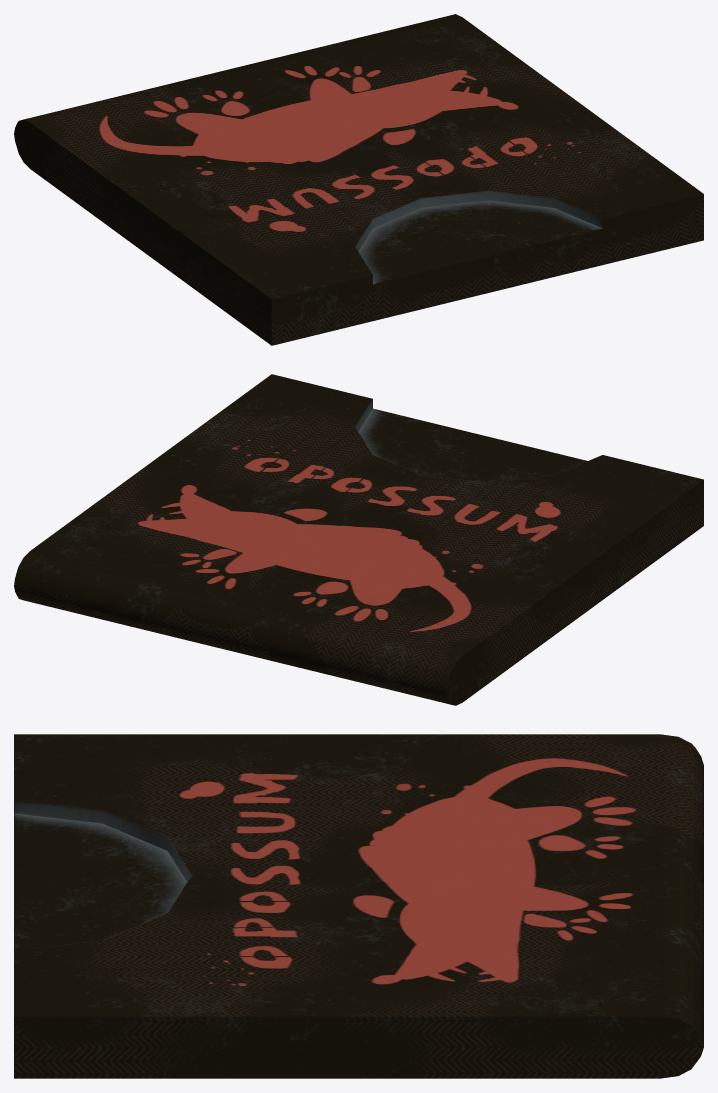
The model's file is Folded_Band Shirt_Textured.fbx.
The picture shows the model from 3 angles, top to bottom: view 1: azimuth 30°, elevation 25°; view 2: azimuth 150°, elevation 25°; view 3: azimuth 270°, elevation 25°; orthographic projection. The views are drawn at different scales.
Parts seen in each view (by area): view 1: ft_01; view 2: ft_01; view 3: ft_01.
Part boxes in pixels (x1,y1,x2,y2): ft_01: [14, 14, 703, 345]; ft_01: [14, 374, 703, 705]; ft_01: [14, 734, 703, 1078].
Size of the model in its own units: 1.11 by 0.1136 by 1.14.
1 material, 1 textured.
